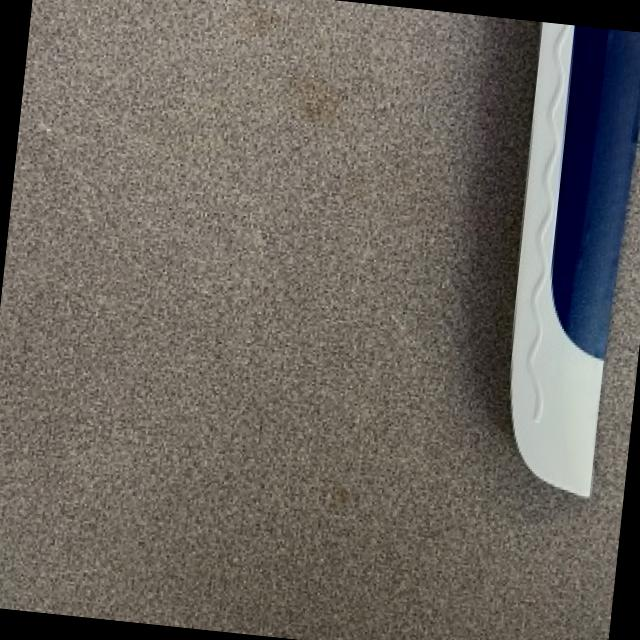healthy: (513, 22, 640, 494)
